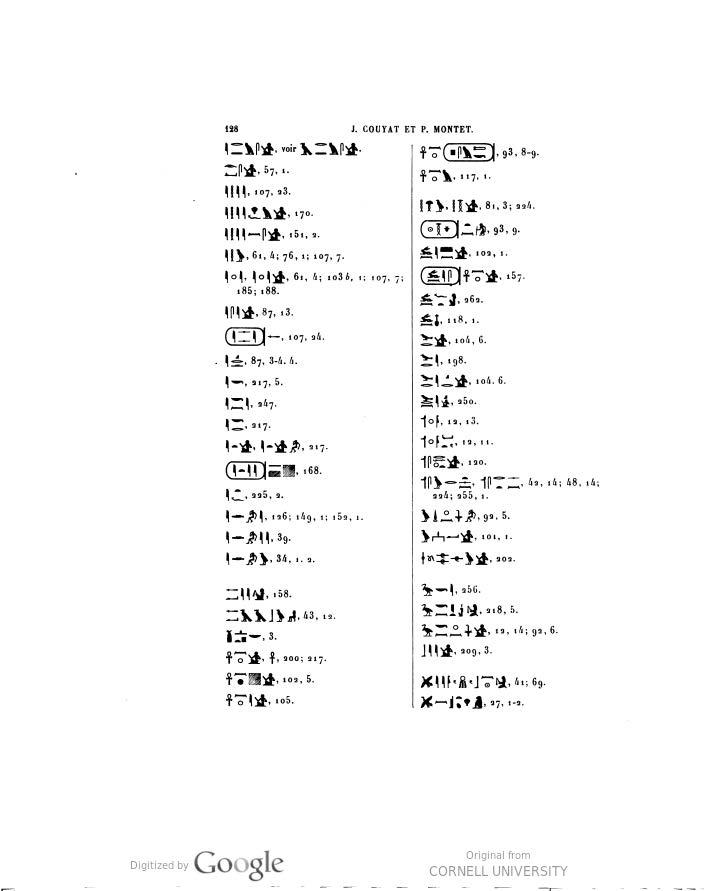circle: (221, 445, 274, 493), (221, 316, 276, 351), (413, 212, 463, 247), (433, 140, 507, 163), (417, 258, 464, 291)
